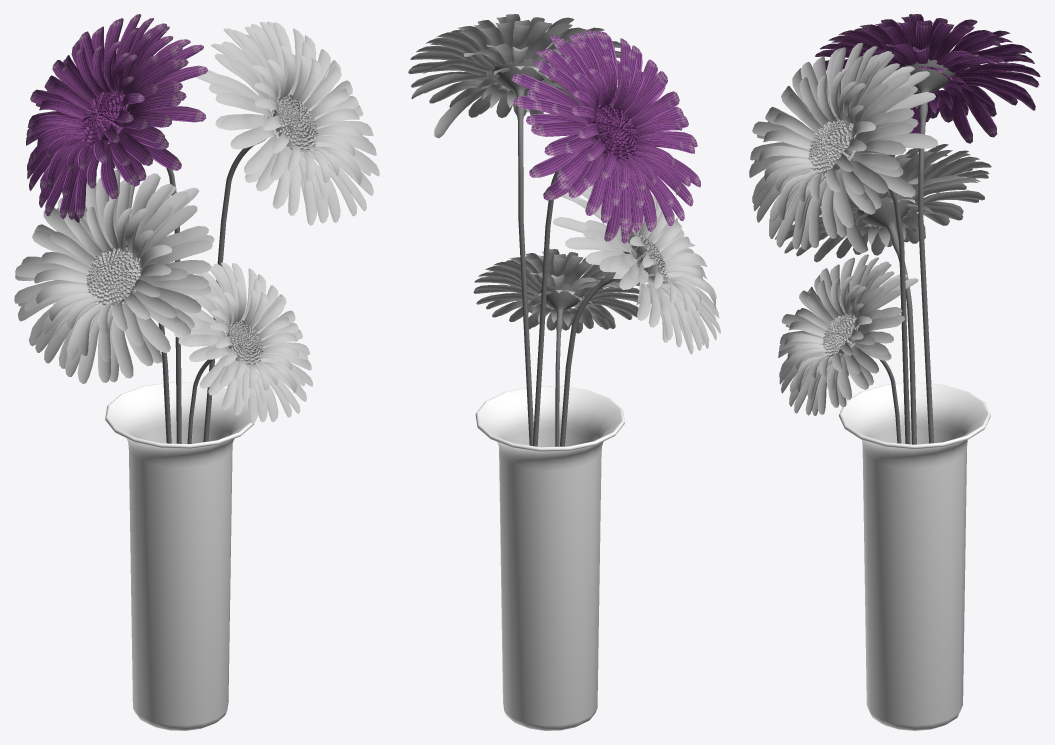
The model's file is flowers.FBX.
The picture shows the model from 3 angles, left to right: view 1: azimuth 30°, elevation 25°; view 2: azimuth 150°, elevation 25°; view 3: azimuth 270°, elevation 25°; orthographic projection.
Visible parts, largest first — view 1: Object001; view 2: Object001; view 3: Object001.
Boxes of the visible parts, x1,y1,x2,y2 form: Object001: (14, 14, 379, 730); Object001: (408, 14, 720, 730); Object001: (749, 14, 1040, 730).
Size of the model in its own units: 19.73 by 42.47 by 16.17.
